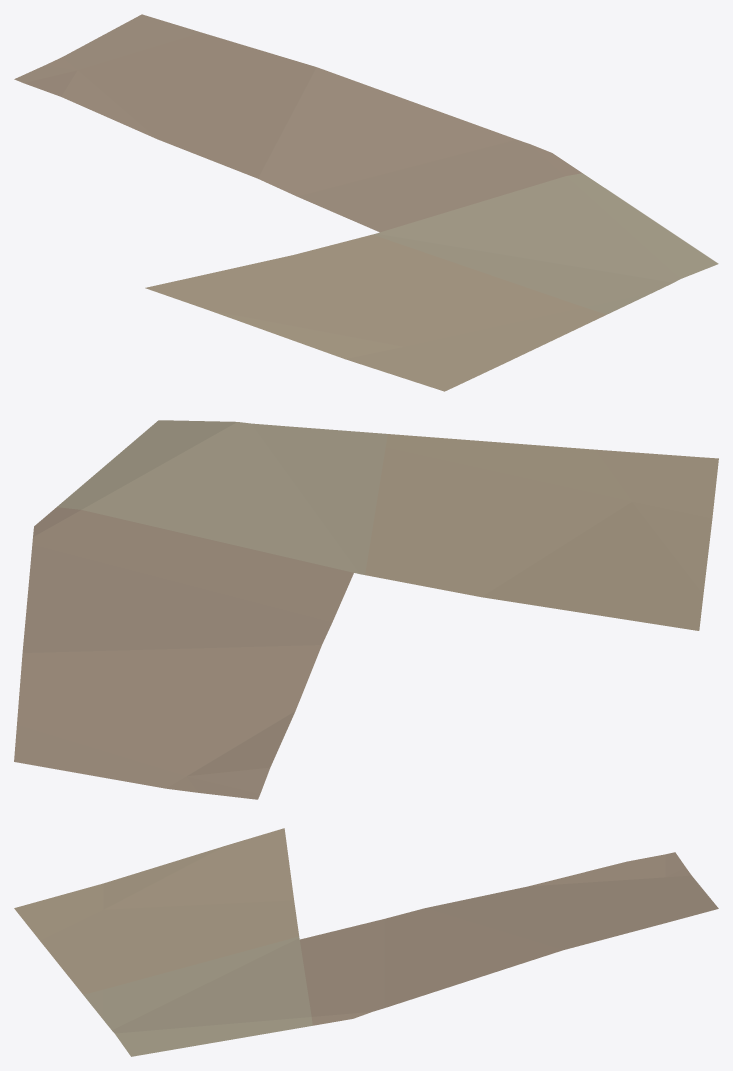
File: farm_-1_15_soil.glb
3 renders of one model, top to bottom at view 1: azimuth 30°, elevation 25°; view 2: azimuth 150°, elevation 25°; view 3: azimuth 270°, elevation 25°, orthographic. The views are drawn at different scales.
Visible parts, largest first — view 1: geometry_0; view 2: geometry_0; view 3: geometry_0.
Boxes of the visible parts, x1,y1,x2,y2 form: geometry_0: (14,14,718,391); geometry_0: (14,420,718,799); geometry_0: (14,828,718,1056).
Size of the model in its own units: 137 by 15.45 by 201.
